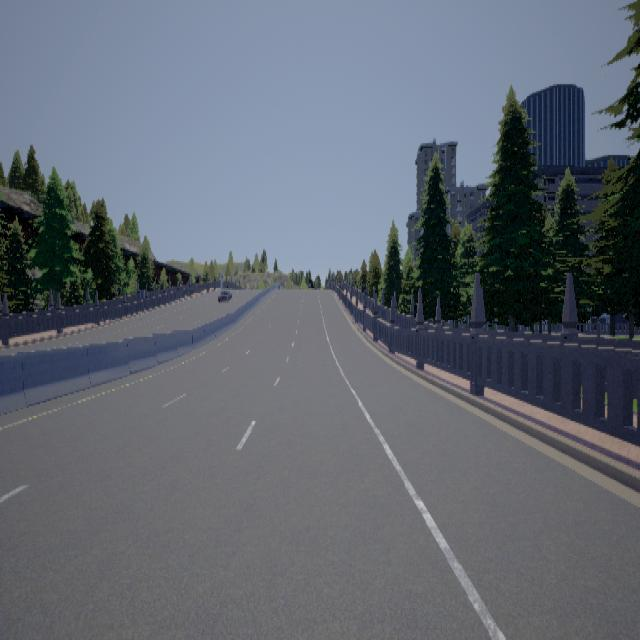vehicle: (216, 286, 230, 305)
